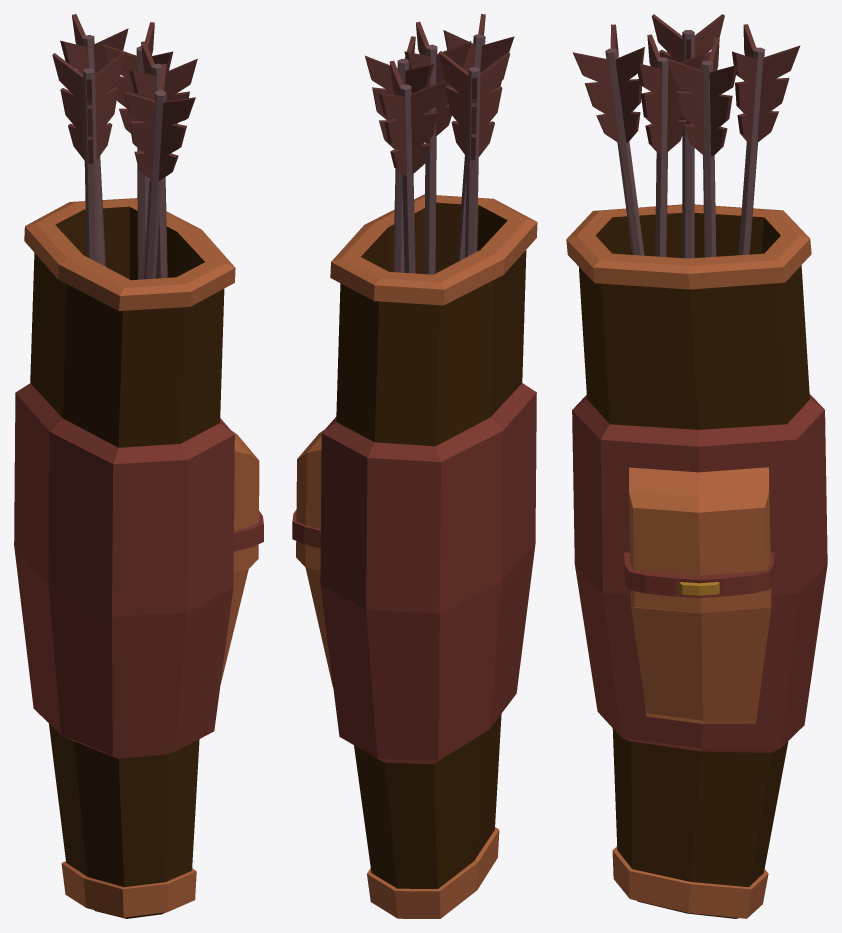
The model's file is Quiver.fbx.
The picture shows the model from 3 angles, left to right: view 1: azimuth 30°, elevation 25°; view 2: azimuth 150°, elevation 25°; view 3: azimuth 270°, elevation 25°; orthographic projection. The views are drawn at different scales.
Parts seen in each view (by area): view 1: Cube, Arrow, Arrow.002, Arrow.004, Arrow.003, Arrow.001; view 2: Cube, Arrow, Arrow.001, Arrow.003, Arrow.004, Arrow.002; view 3: Cube, Arrow.002, Arrow.004, Arrow.001, Arrow.003, Arrow.
Boxes of the visible parts, x1,y1,x2,y2 form: Cube: (14, 198, 263, 918); Arrow: (52, 52, 125, 262); Arrow.002: (123, 63, 195, 279); Arrow.004: (102, 22, 173, 279); Arrow.003: (129, 41, 197, 278); Arrow.001: (60, 14, 128, 266); Cube: (292, 194, 537, 918); Arrow: (439, 51, 510, 257); Arrow.001: (378, 60, 445, 273); Arrow.003: (404, 21, 471, 274); Arrow.004: (365, 36, 433, 272); Arrow.002: (443, 14, 514, 261); Cube: (566, 204, 827, 918); Arrow.002: (572, 24, 644, 255); Arrow.004: (667, 37, 737, 257); Arrow.001: (732, 24, 800, 255); Arrow.003: (636, 34, 704, 256); Arrow: (651, 14, 724, 258).
Size of the model in its own units: 131 by 539 by 147.
